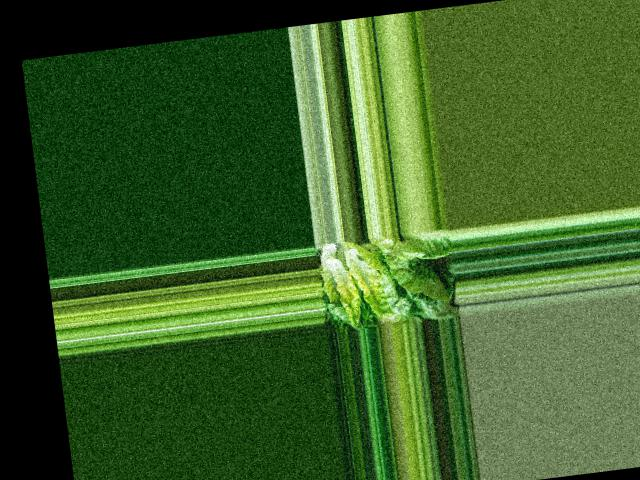lettuce: (317, 233, 413, 328)
